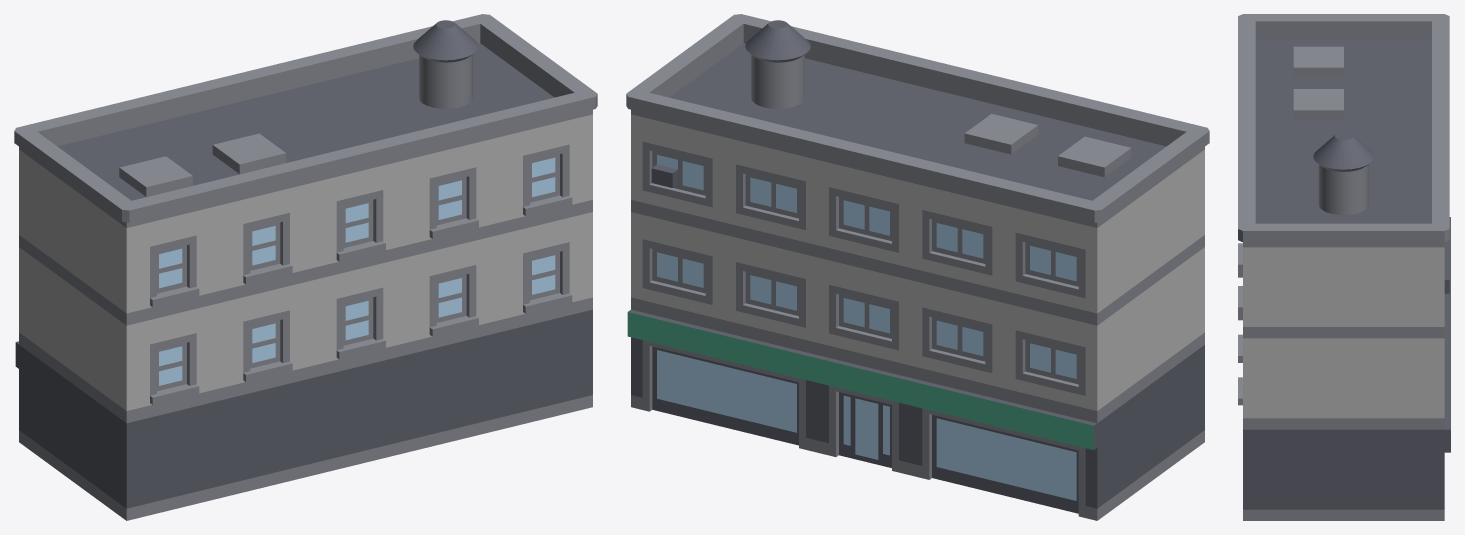
The model's file is large_buildingF.dae.
3 views of the same model, side by side, from view 1: azimuth 30°, elevation 25°; view 2: azimuth 150°, elevation 25°; view 3: azimuth 270°, elevation 25° (orthographic). The views are drawn at different scales.
Visible parts, largest first — view 1: large_buildingF; view 2: large_buildingF; view 3: large_buildingF.
Boxes of the visible parts, x1,y1,x2,y2 form: large_buildingF: [14, 14, 597, 520]; large_buildingF: [626, 14, 1209, 520]; large_buildingF: [1238, 14, 1450, 520].
Bounding box in the file's own units: 2.04 × 1.5 × 0.845.
